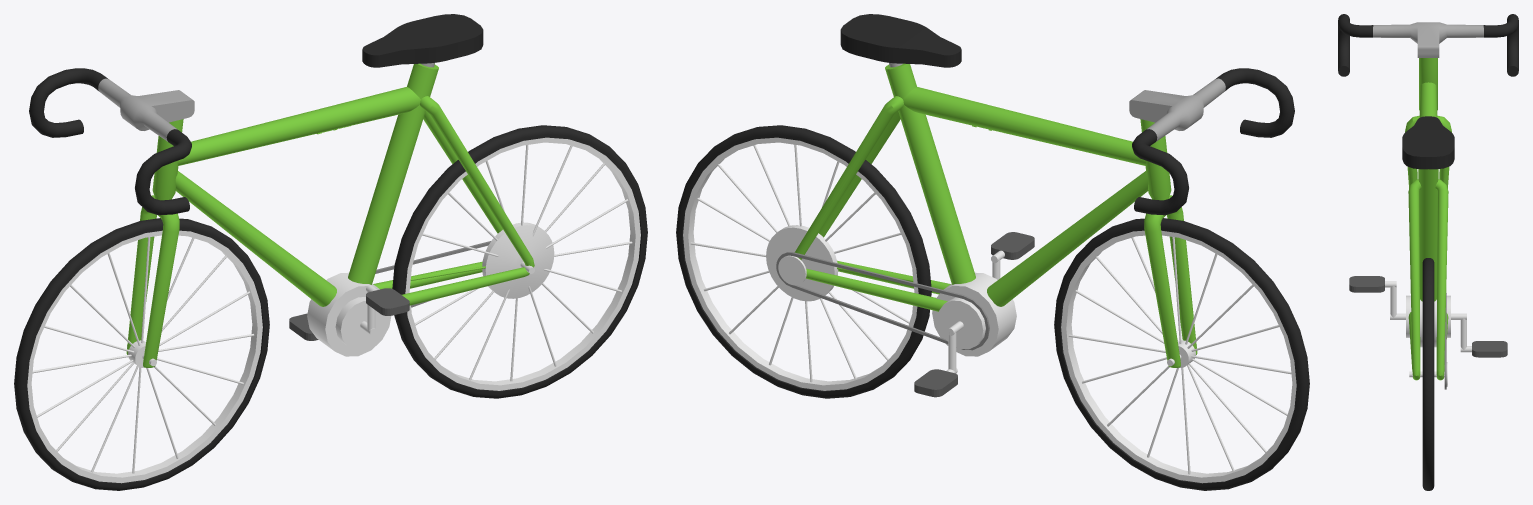
Rendered from bicycle.gltf.
The picture shows the model from 3 angles, left to right: view 1: azimuth 30°, elevation 25°; view 2: azimuth 150°, elevation 25°; view 3: azimuth 270°, elevation 25°; orthographic projection. The views are drawn at different scales.
Parts seen in each view (by area): view 1: Circle.2393; view 2: Circle.2393; view 3: Circle.2393.
Boxes of the visible parts, x1,y1,x2,y2 form: Circle.2393: (14,14,647,490); Circle.2393: (676,14,1309,490); Circle.2393: (1338,14,1518,490).
Bounding box in the file's own units: 2.45 × 1.43 × 0.7598.
1 material, 1 textured.
